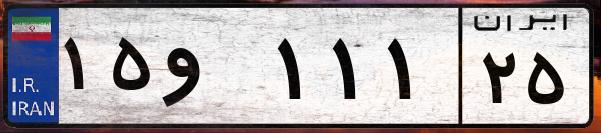1: (270, 28, 330, 110), (385, 28, 445, 110), (330, 28, 385, 110), (57, 26, 110, 100)
2: (475, 38, 525, 113)
5: (525, 38, 570, 115), (110, 28, 158, 98)
و: (158, 20, 270, 120)
